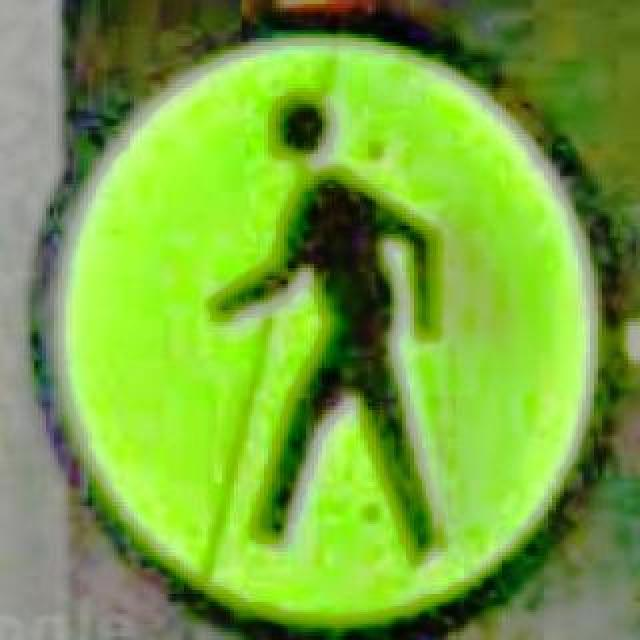pedestrian crossing: (28, 16, 626, 636)
